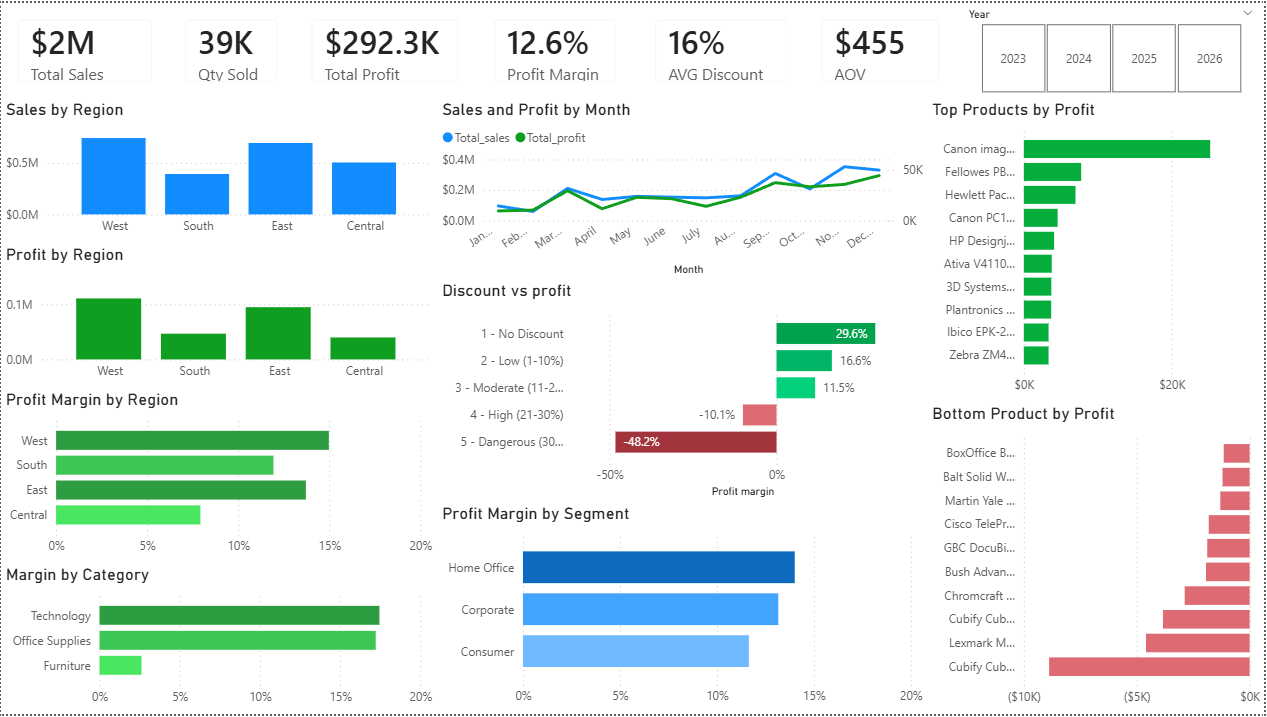

What the dashboard file says about the page in this screenshot:
{"tool":"powerbi","page":{"name":"Business Overview","canvas":[1280,720],"ordinal":0},"visuals":[{"type":"cardVisual","fields":{"Data":["_Measures.Total_sales"]},"box":[0,0,170.2,97.4],"z":0},{"type":"cardVisual","fields":{"Data":["_Measures.Qty_sold"]},"box":[170.2,0,127.6,97.4],"z":1000},{"type":"cardVisual","fields":{"Data":["_Measures.Profit margin"]},"box":[481.6,0,157.8,97.4],"z":2000},{"type":"cardVisual","fields":{"Data":["_Measures.Total_profit"]},"box":[297.8,0,183.9,97.4],"z":3000},{"type":"cardVisual","fields":{"Data":["_Measures.AVG Discount"]},"box":[644.9,0,168.8,97.4],"z":4000},{"type":"slicer","fields":{"Values":["sample_-_superstore.Year"]},"box":[967.4,0,312.9,97.4],"z":5000},{"type":"columnChart","title":"Sales by Region","fields":{"Category":["sample_-_superstore.Region"],"Y":["_Measures.Total_sales"]},"box":[0,97.4,441.9,146.8],"z":6000},{"type":"columnChart","title":"Profit by Region","fields":{"Category":["sample_-_superstore.Region"],"Y":["_Measures.Total_profit"]},"box":[0,244.3,441.9,146.8],"z":7000},{"type":"clusteredBarChart","title":"Profit Margin by Segment","fields":{"Category":["sample_-_superstore.Segment"],"Y":["_Measures.Profit margin"]},"box":[441.9,506.3,496.7,214.1],"z":8000},{"type":"barChart","title":"Profit Margin by Region","fields":{"Category":["sample_-_superstore.Region"],"Y":["_Measures.Profit margin"]},"box":[0,391.1,441.9,177],"z":9000},{"type":"lineChart","title":"Sales and Profit by Month","fields":{"Y":["_Measures.Total_sales"],"Y2":["_Measures.Total_profit"],"Category":["sample_-_superstore.Order Date.Variation.Date Hierarchy.Month"]},"box":[441.9,97.4,496.7,183.9],"z":10000},{"type":"cardVisual","fields":{"Data":["_Measures.AOV"]},"box":[813.7,0,153.7,97.4],"z":11000},{"type":"barChart","title":"Margin by Category","fields":{"Category":["sample_-_superstore.Category"],"Y":["_Measures.Profit margin"]},"box":[0,568.1,441.9,152.3],"z":12000},{"type":"barChart","title":"Top Products by Profit","fields":{"Category":["sample_-_superstore.Product Name"],"Y":["_Measures.Total_profit"]},"box":[938.6,97.4,341.7,307.4],"z":13000},{"type":"barChart","title":"Bottom Product by Profit","fields":{"Category":["sample_-_superstore.Product Name"],"Y":["_Measures.Total_profit"]},"box":[938.6,404.8,341.7,315.6],"z":14000},{"type":"clusteredBarChart","title":"Discount vs profit","fields":{"Category":["sample_-_superstore.Discount Band"],"Y":["_Measures.Profit margin"]},"box":[441.9,281.3,496.7,225],"z":15000}]}

Visuals, with their boxes in screenshot pixels (x1, y1, x2, y2), scaled from the page's 1280x720 canvas onto the 1267x717 screenshot:
cardVisual - _Measures.Total_sales: 0, 0, 168, 97
cardVisual - _Measures.Qty_sold: 168, 0, 295, 97
cardVisual - _Measures.Profit margin: 477, 0, 633, 97
cardVisual - _Measures.Total_profit: 295, 0, 477, 97
cardVisual - _Measures.AVG Discount: 638, 0, 805, 97
slicer - sample_-_superstore.Year: 958, 0, 1266, 97
"Sales by Region" columnChart: 0, 97, 437, 243
"Profit by Region" columnChart: 0, 243, 437, 389
"Profit Margin by Segment" clusteredBarChart: 437, 504, 929, 716
"Profit Margin by Region" barChart: 0, 389, 437, 566
"Sales and Profit by Month" lineChart: 437, 97, 929, 280
cardVisual - _Measures.AOV: 805, 0, 958, 97
"Margin by Category" barChart: 0, 566, 437, 716
"Top Products by Profit" barChart: 929, 97, 1266, 403
"Bottom Product by Profit" barChart: 929, 403, 1266, 716
"Discount vs profit" clusteredBarChart: 437, 280, 929, 504
